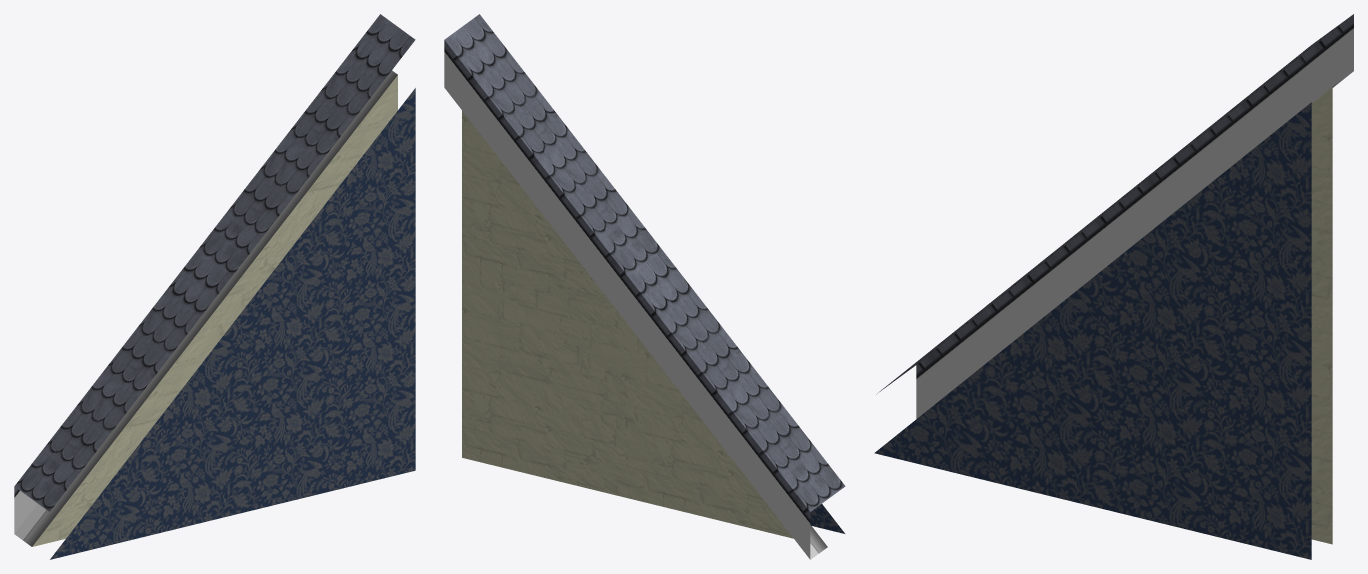
File: wallRoofRight.fbx
3 renders of one model, left to right at view 1: azimuth 30°, elevation 25°; view 2: azimuth 150°, elevation 25°; view 3: azimuth 330°, elevation 25°, orthographic. The views are drawn at different scales.
Visible parts, largest first — view 1: wallRoofRight, roofEndRight; view 2: wallRoofRight, roofEndRight; view 3: wallRoofRight, roofEndRight.
Part boxes in pixels (box(x1,y1,x2,y2)): wallRoofRight: box(32, 75, 415, 559); roofEndRight: box(14, 14, 415, 546); wallRoofRight: box(462, 111, 844, 538); roofEndRight: box(444, 14, 845, 559); wallRoofRight: box(874, 87, 1332, 559); roofEndRight: box(876, 14, 1353, 418).
Size of the model in its own units: 12 by 13.5 by 2.
2 materials, 2 textured.
